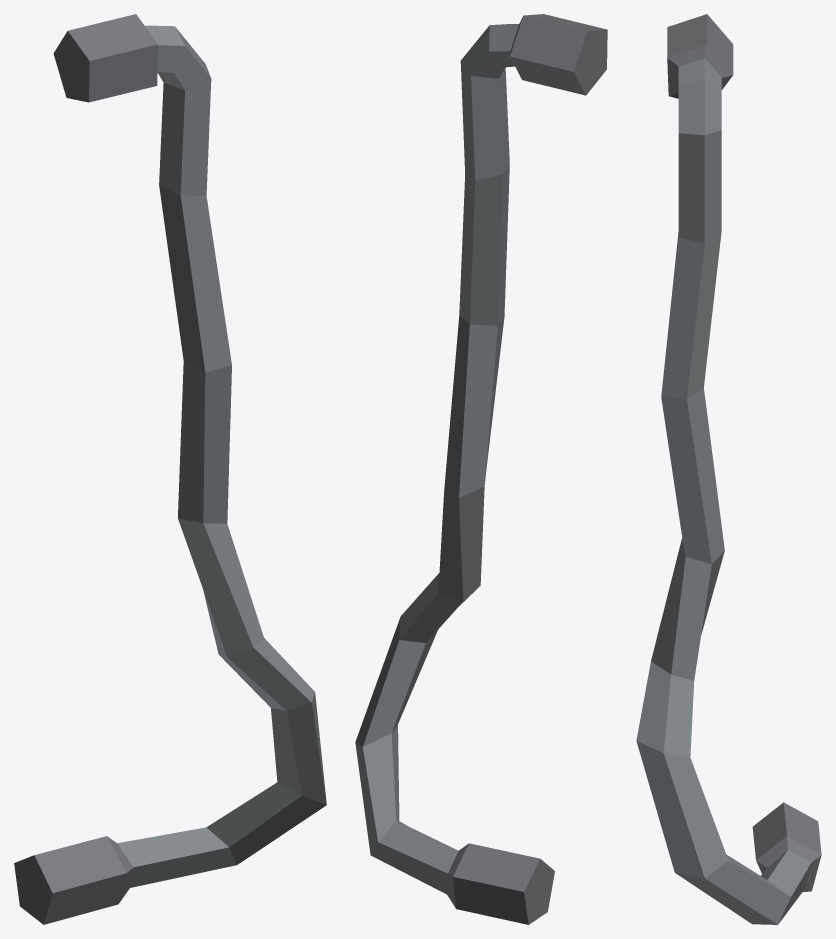
The model's file is SM_Prop_Tube_02.glb.
The picture shows the model from 3 angles, left to right: view 1: azimuth 30°, elevation 25°; view 2: azimuth 150°, elevation 25°; view 3: azimuth 270°, elevation 25°; orthographic projection. The views are drawn at different scales.
Visible parts, largest first — view 1: SM_Prop_Tube_02; view 2: SM_Prop_Tube_02; view 3: SM_Prop_Tube_02.
Part boxes in pixels (left/top/right/bottom): SM_Prop_Tube_02: left=14, top=14, right=326, bottom=924; SM_Prop_Tube_02: left=355, top=14, right=607, bottom=924; SM_Prop_Tube_02: left=636, top=14, right=821, bottom=924.
Size of the model in its own units: 0.3643 by 1.28 by 0.2559.
Materials: 1 (1 with a texture image).
